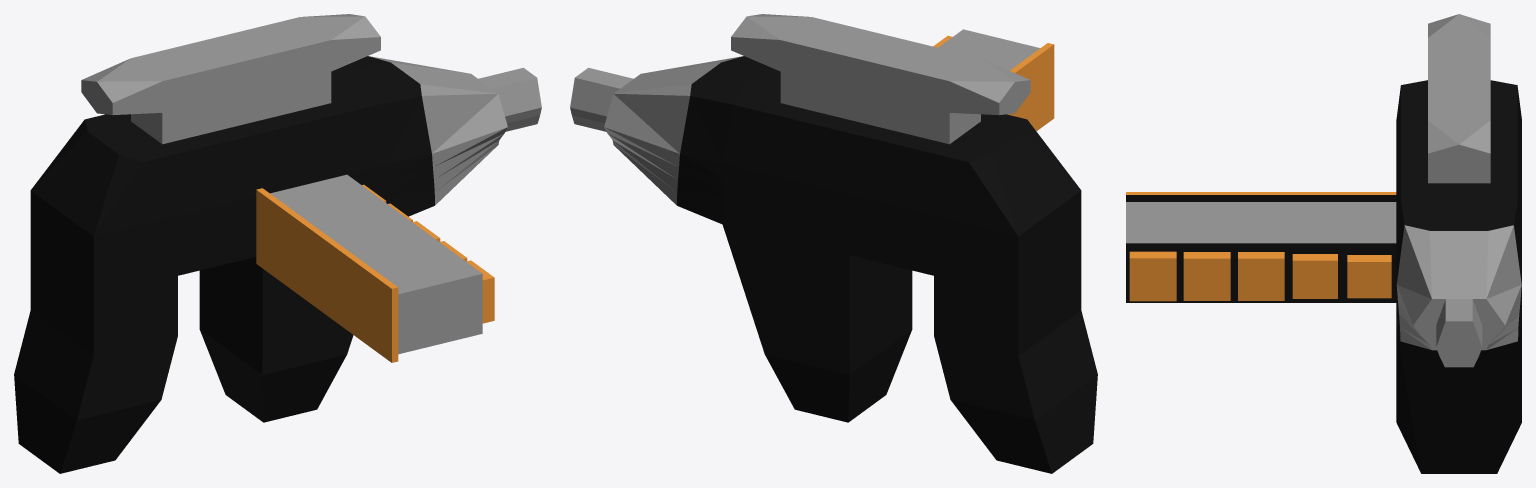
File: Laser_Gun_Model.fbx
3 renders of one model, left to right at view 1: azimuth 30°, elevation 25°; view 2: azimuth 150°, elevation 25°; view 3: azimuth 270°, elevation 25°, orthographic.
Parts seen in each view (by area): view 1: Cube; view 2: Cube; view 3: Cube.
Boxes of the visible parts, left/top/right/bottom form: Cube: left=14, top=14, right=541, bottom=473; Cube: left=570, top=14, right=1097, bottom=473; Cube: left=1126, top=14, right=1521, bottom=473.
Bounding box in the file's own units: 51.41 × 36.31 × 35.99.
